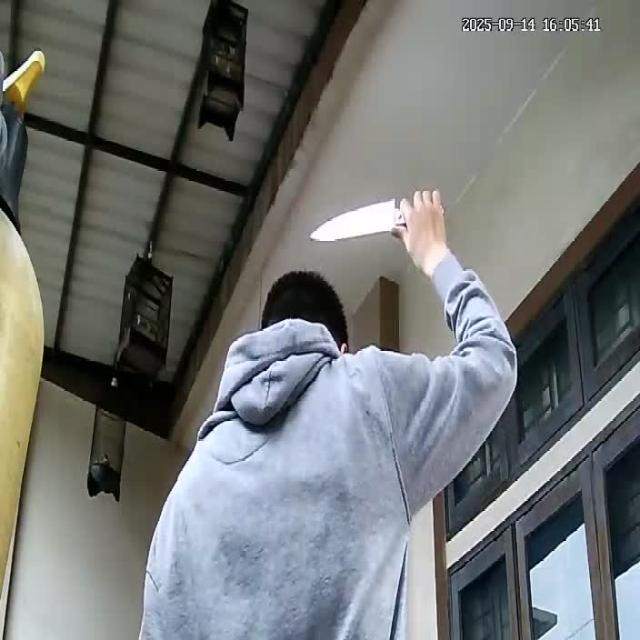senjata_tajam: (307, 195, 407, 243)
